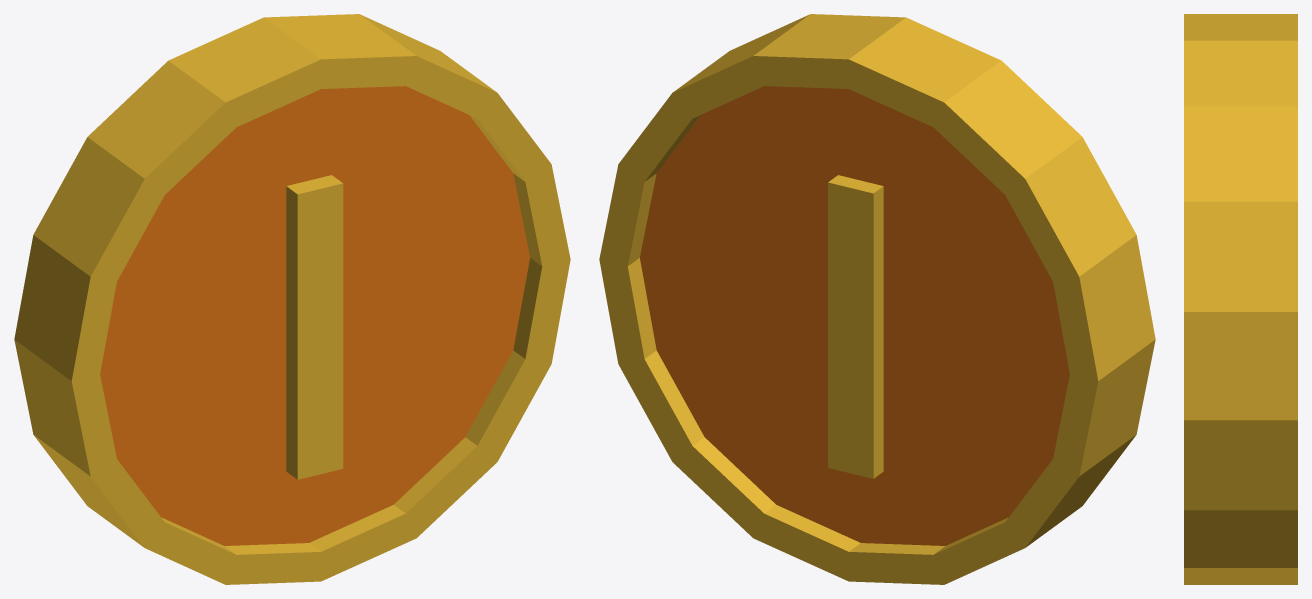
File: coin08.fbx
3 renders of one model, left to right at view 1: azimuth 30°, elevation 25°; view 2: azimuth 150°, elevation 25°; view 3: azimuth 270°, elevation 25°, orthographic.
Parts seen in each view (by area): view 1: Coin08; view 2: Coin08; view 3: Coin08.
Part boxes in pixels (box(x1,y1,x2,y2)): Coin08: box(14, 14, 570, 584); Coin08: box(599, 14, 1155, 584); Coin08: box(1184, 14, 1297, 584).
Bounding box in the file's own units: 84.1 × 84.1 × 16.74.
